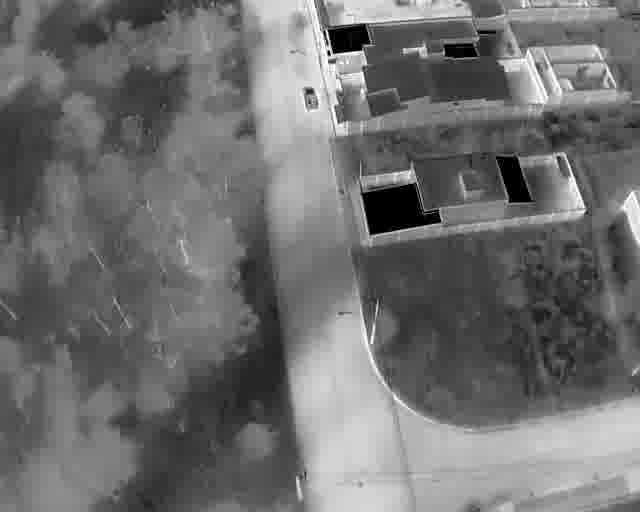car: (301, 86, 318, 111)
